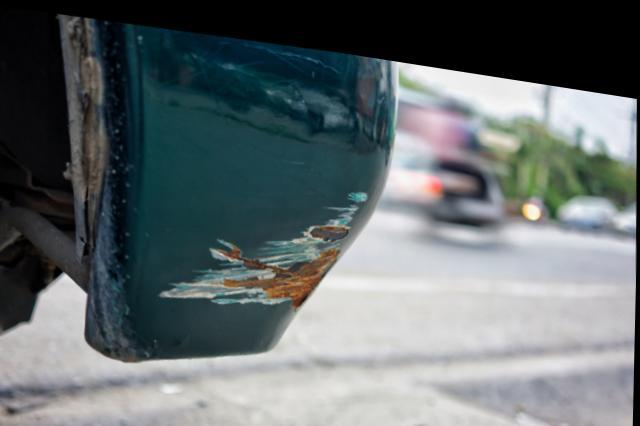scratch: (156, 178, 372, 305)
